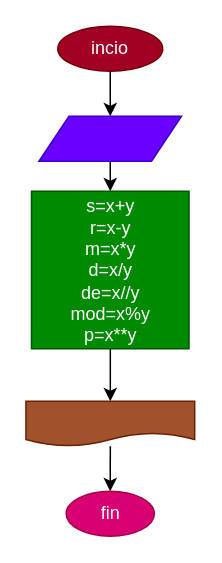
The diagram is 222 pixels wide and 563 high, and some of its shapes have lost their labels. The shapes that lost their labels are listed below. From the top down, each one's centre as x and y in pixels, then its label:
At (x=110, y=138): "x,y".
At (x=109, y=423): "s,r,m,d,de,mod,p".
